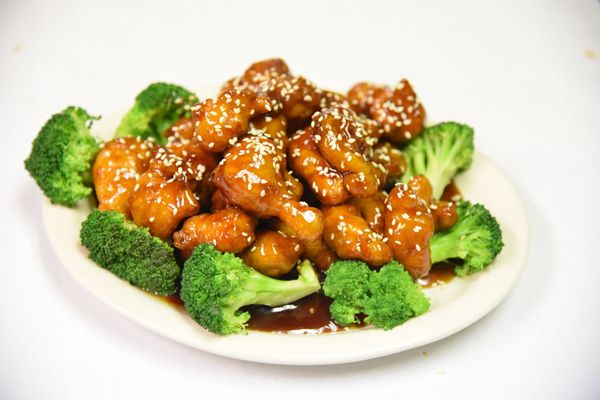curry: (179, 242, 321, 335), (79, 208, 181, 296), (24, 104, 103, 208), (322, 258, 432, 330), (400, 120, 476, 200), (429, 199, 504, 276), (114, 80, 200, 145)
